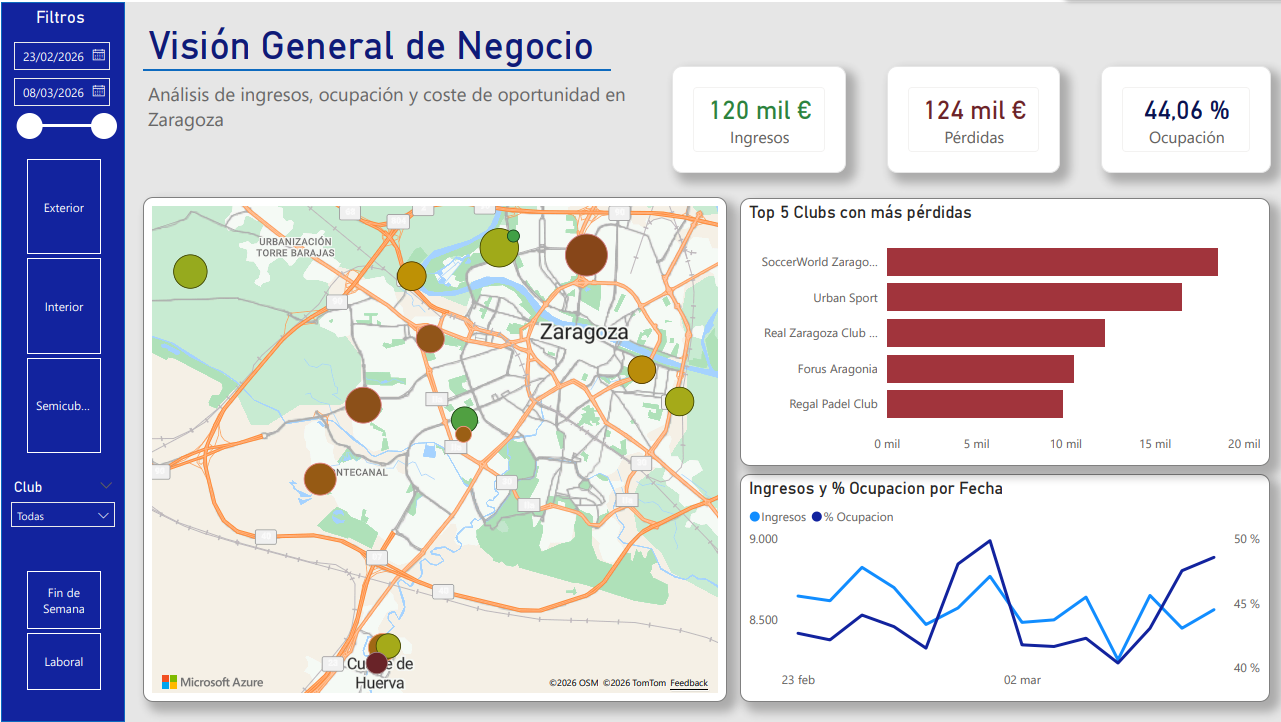

This screenshot's page, from the dashboard's own definition file:
{"tool":"powerbi","page":{"name":"Visión General","canvas":[1280,720],"ordinal":0},"visuals":[{"type":"azureMap","fields":{"Category":["public reservas_padel.Coordenadas"],"Size":["Sum(public reservas_padel.Ingreso_Generado)"]},"box":[142.1,195.1,584.2,505.2],"z":0},{"type":"lineChart","fields":{"Category":["public reservas_padel.Fecha.Variación.Jerarquía de fechas.Día"],"Y":["Sum(public reservas_padel.Ingreso_Generado)"],"Y2":["public reservas_padel.% Ocupacion Real"]},"box":[739,472,530,228],"z":1000},{"type":"cardVisual","fields":{"Data":["Sum(public reservas_padel.Ingreso_Generado)"]},"box":[671,64.3,173.7,107.1],"z":2000},{"type":"cardVisual","fields":{"Data":["Sum(public reservas_padel.Lost Revenue)"]},"box":[886.4,64.3,172.5,107.1],"z":3000},{"type":"cardVisual","fields":{"Data":["public reservas_padel.% Ocupacion Real"]},"box":[1099.6,64.3,170.3,107.1],"z":4000},{"type":"barChart","title":"Top 5 Clubs con más pérdidas","fields":{"Category":["public reservas_padel.Club"],"Y":["Sum(public reservas_padel.Lost Revenue)"]},"box":[739.2,195.5,530.1,268.4],"z":5000},{"type":"shape","title":"Filtros","box":[0,0,123.9,719.9],"z":6000},{"type":"slicer","fields":{"Values":["Calendario.Date"]},"box":[0,29.7,123.9,128],"z":7000},{"type":"slicer","fields":{"Values":["public vw_kpi_diario_club.Club"]},"box":[0,472,124,73.1],"z":8000},{"type":"slicer","fields":{"Values":["public reservas_padel.Tipo_Pista"]},"box":[0,149.9,124,308.2],"z":9000},{"type":"slicer","fields":{"Values":["public reservas_padel.Tipo de Dia"]},"box":[0,561.8,124,133.3],"z":10000},{"type":"textbox","box":[29.6,0,63.9,32.4],"z":11000},{"type":"textbox","box":[142.1,15.8,512,77.8],"z":12000},{"type":"textbox","box":[142.1,74.4,496.2,64.3],"z":13000},{"type":"shape","box":[142.1,29.3,468,77.8],"z":14000}]}

Visuals, with their boxes in screenshot pixels (x1, y1, x2, y2), scaled from the page's 1280x720 canvas onto the 1281x722 screenshot:
azureMap - public reservas_padel.Coordenadas x Sum(public reservas_padel.Ingreso_Generado): (left=142, top=196, right=727, bottom=702)
lineChart - public reservas_padel.Fecha.Variación.Jerarquía de fechas.Día x Sum(public reservas_padel.Ingreso_Generado): (left=740, top=473, right=1270, bottom=702)
cardVisual - Sum(public reservas_padel.Ingreso_Generado): (left=672, top=64, right=845, bottom=172)
cardVisual - Sum(public reservas_padel.Lost Revenue): (left=887, top=64, right=1060, bottom=172)
cardVisual - public reservas_padel.% Ocupacion Real: (left=1100, top=64, right=1271, bottom=172)
"Top 5 Clubs con más pérdidas" barChart: (left=740, top=196, right=1270, bottom=465)
"Filtros" shape: (left=0, top=0, right=124, bottom=721)
slicer - Calendario.Date: (left=0, top=30, right=124, bottom=158)
slicer - public vw_kpi_diario_club.Club: (left=0, top=473, right=124, bottom=547)
slicer - public reservas_padel.Tipo_Pista: (left=0, top=150, right=124, bottom=459)
slicer - public reservas_padel.Tipo de Dia: (left=0, top=563, right=124, bottom=697)
textbox: (left=30, top=0, right=94, bottom=32)
textbox: (left=142, top=16, right=655, bottom=94)
textbox: (left=142, top=75, right=639, bottom=139)
shape: (left=142, top=29, right=611, bottom=107)
